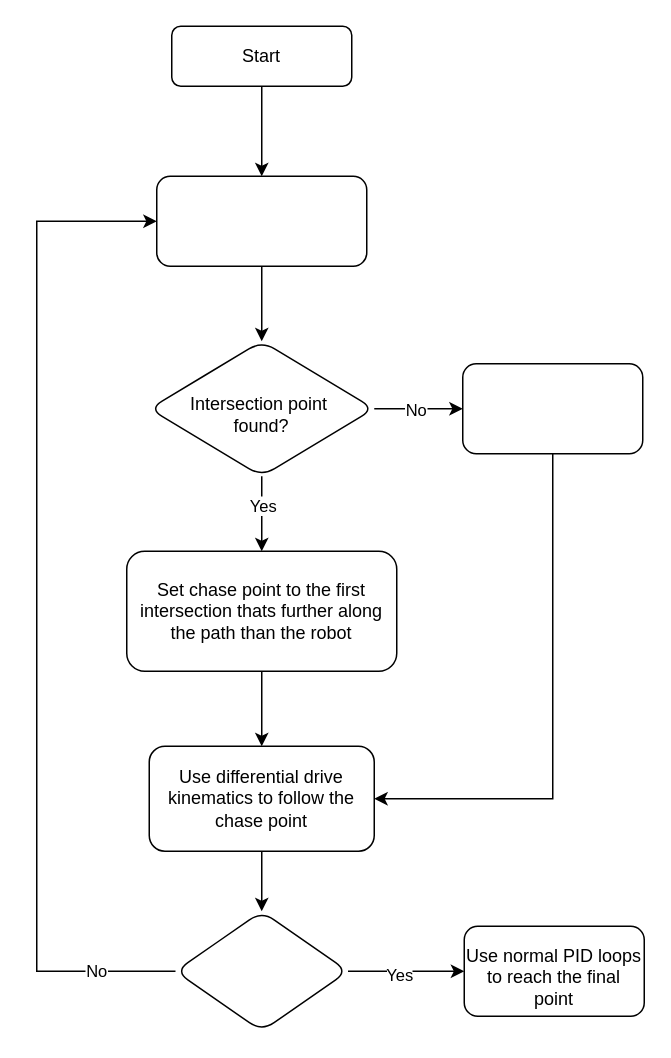
This 671x1058 diagram has some shape labels left out. The centre of each missing label's shape, as x and y in pixels:
"Reached end of path?" goes at point (261, 970).
"Set chase point to the last point found" goes at point (552, 408).
"Use circle-line intersection algorithm to find intersection points" goes at point (261, 220).
